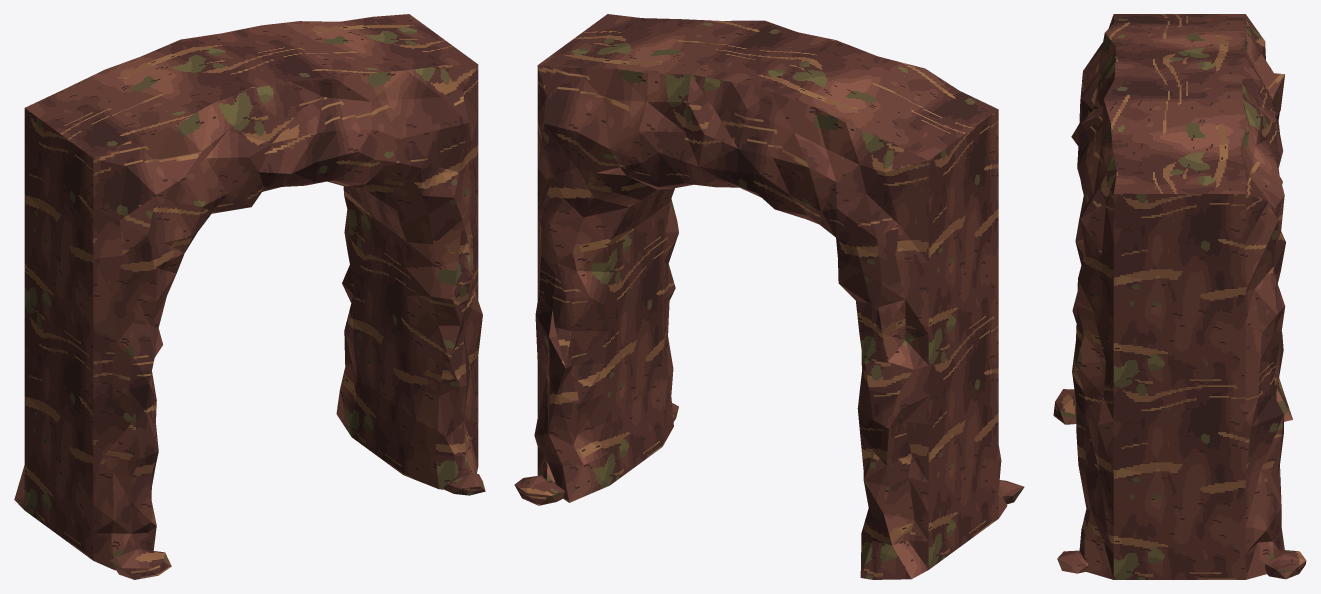
Rendered from SM_AN04_TunnelCollar.fbx.
The picture shows the model from 3 angles, left to right: view 1: azimuth 30°, elevation 25°; view 2: azimuth 150°, elevation 25°; view 3: azimuth 270°, elevation 25°; orthographic projection. The views are drawn at different scales.
Parts seen in each view (by area): view 1: AN04a_Earth; view 2: AN04a_Earth; view 3: AN04a_Earth.
Part boxes in pixels (bbox=[...]): AN04a_Earth: bbox=[14, 14, 485, 579]; AN04a_Earth: bbox=[514, 14, 1024, 579]; AN04a_Earth: bbox=[1053, 14, 1306, 579].
Size of the model in its own units: 4 by 4.3 by 2.38.
